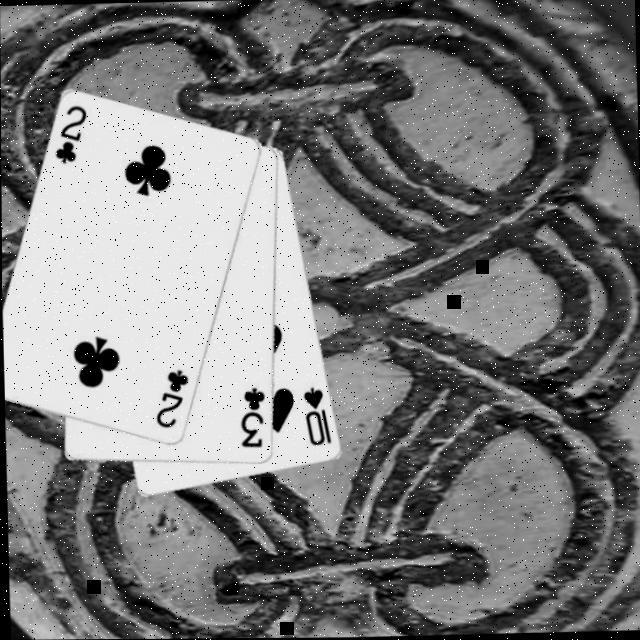10S: (302, 386, 336, 450)
2C: (152, 368, 194, 433), (54, 104, 92, 170)
3C: (239, 386, 270, 453)
